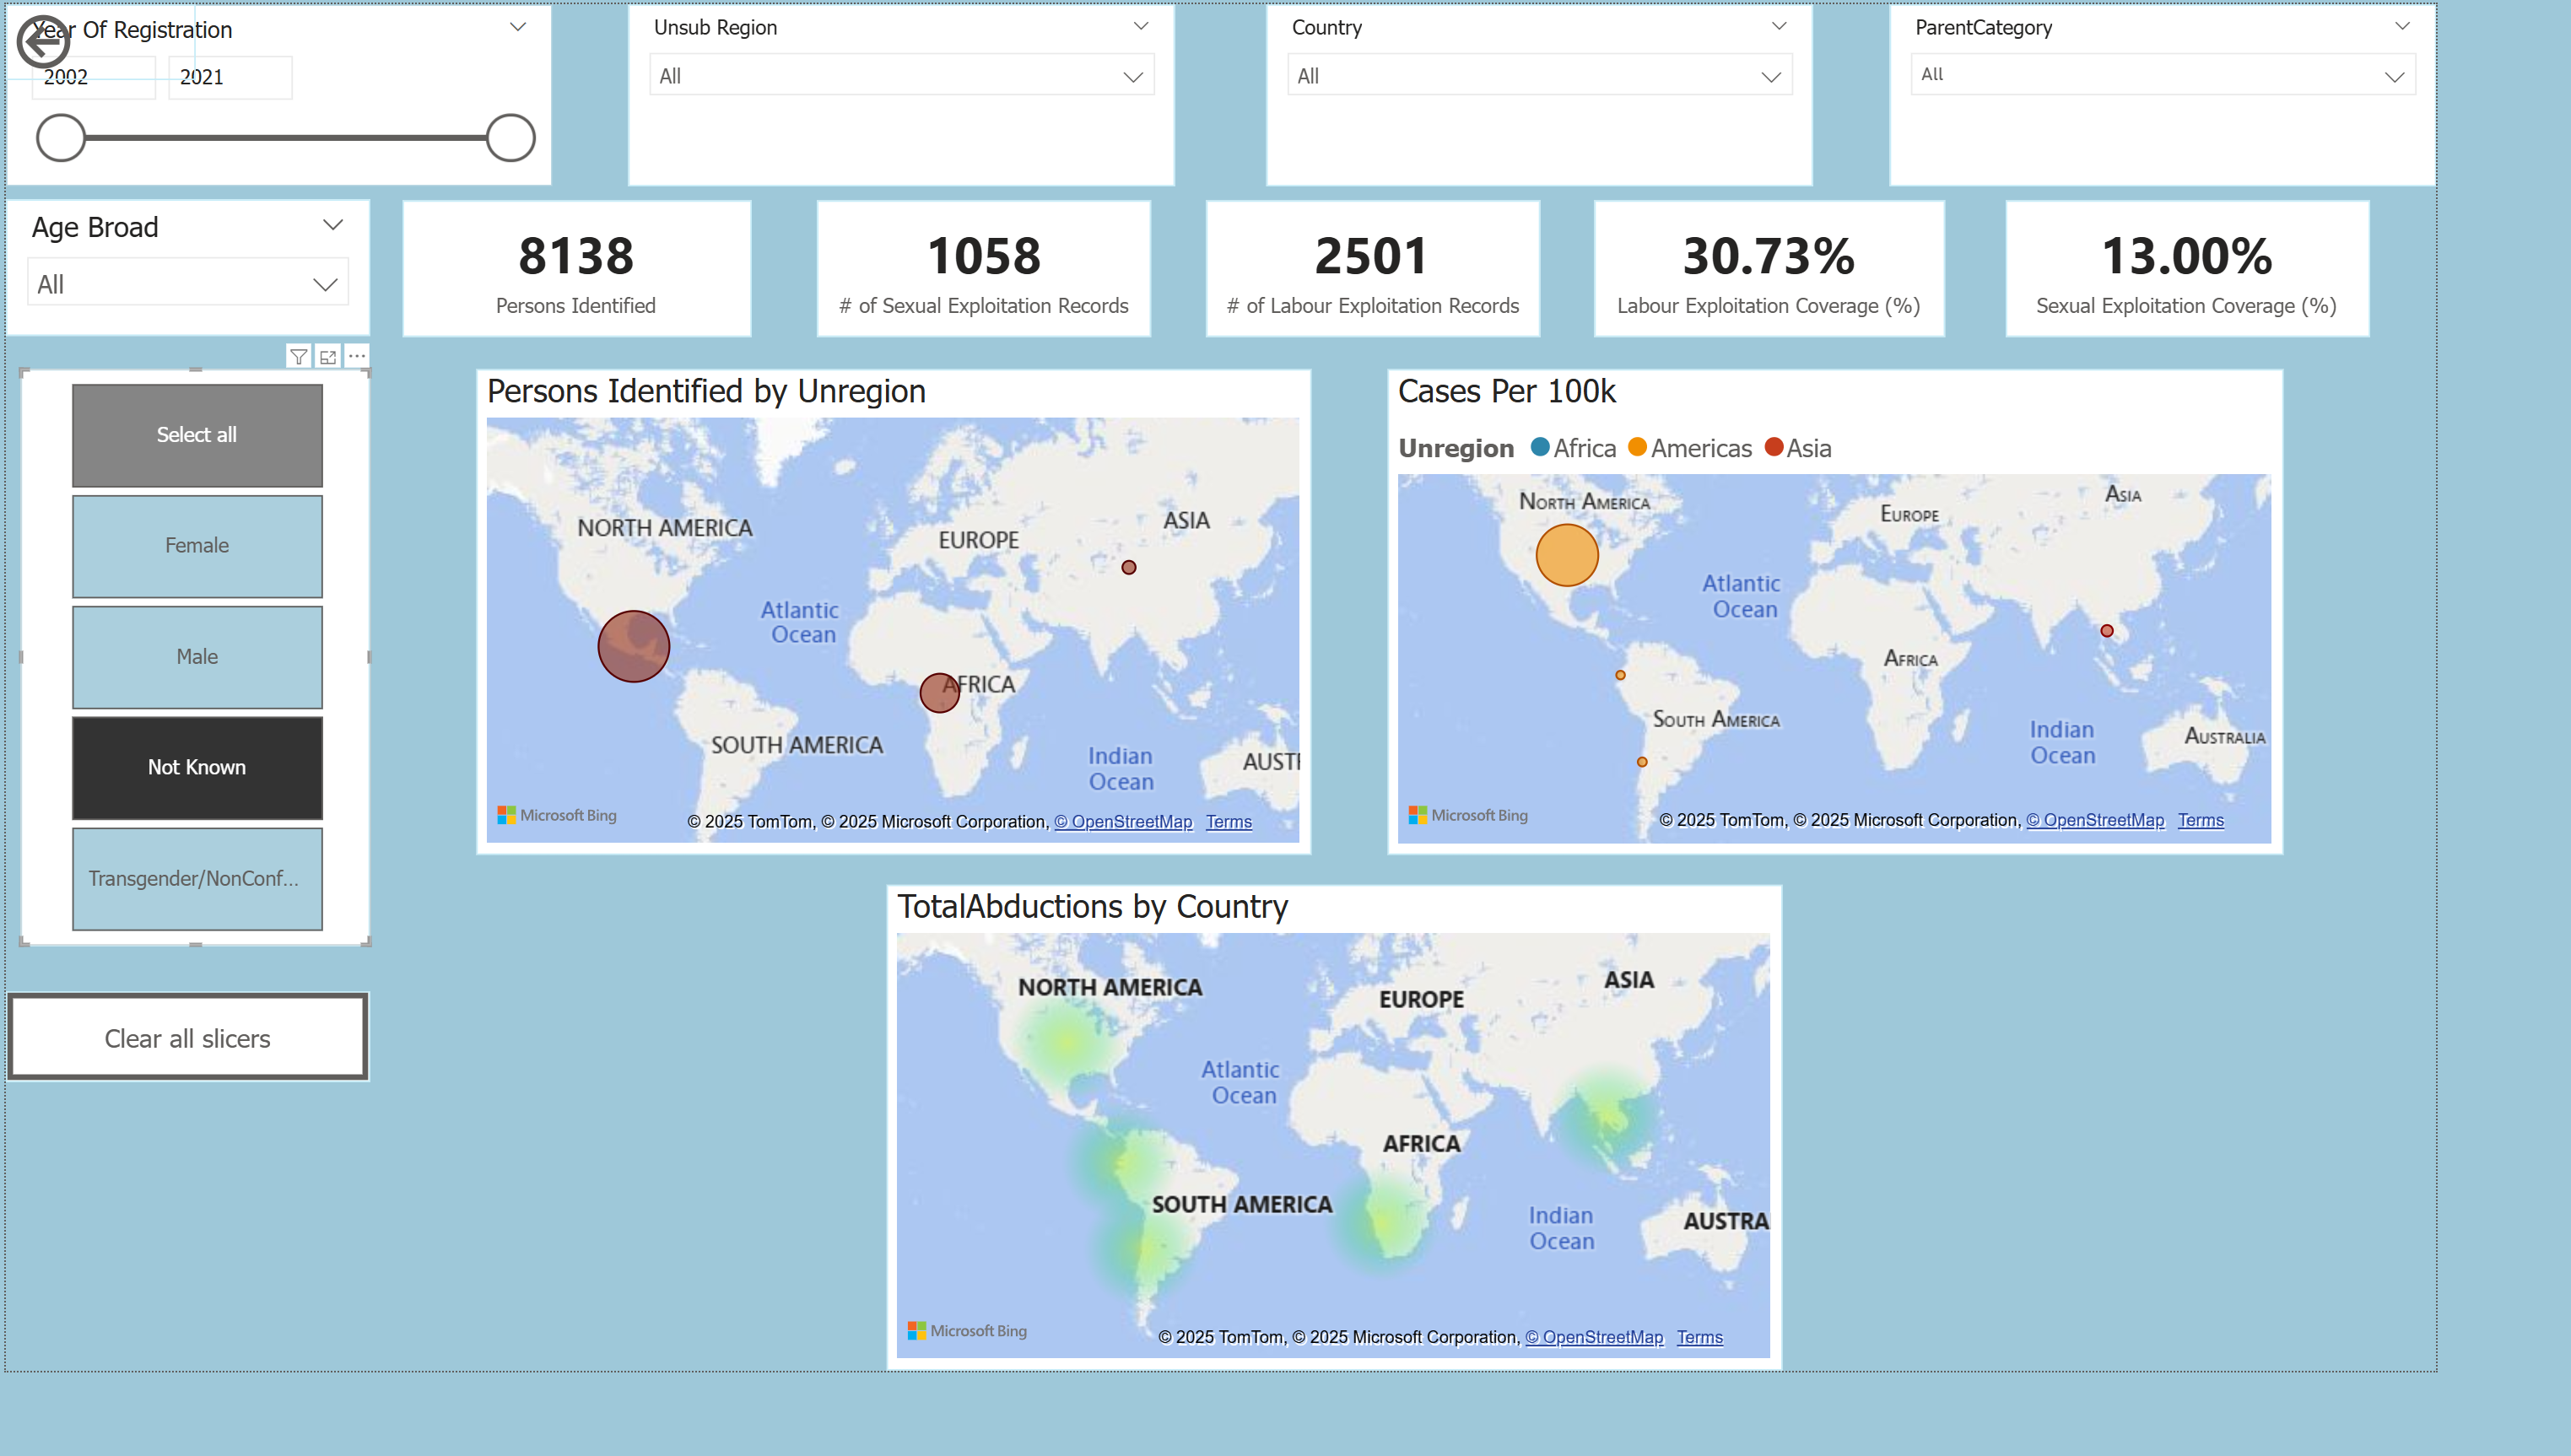

Layout of this report page (visuals, bound fields, positions):
{"tool":"powerbi","page":{"name":"Maps","canvas":[1280,720],"ordinal":1},"visuals":[{"type":"card","fields":{"Values":["CTDC.Persons Identified"]},"box":[209.1,103.1,183.8,72],"z":0},{"type":"card","fields":{"Values":["CTDC.LabourExploitationCount"]},"box":[632.2,103.1,176,72],"z":1000},{"type":"card","fields":{"Values":["CTDC.SexualExploitationCompleteness"]},"box":[1053.4,103.1,191.6,72],"z":2000},{"type":"card","fields":{"Values":["CTDC.LabourExploitationCompleteness"]},"box":[836.5,103.1,184.8,72],"z":3000},{"type":"slicer","fields":{"Values":["CTDC.Year Of Registration"]},"box":[0,0,288,96],"z":4000},{"type":"slicer","fields":{"Values":["CTDC.Gender"]},"box":[8,192,184,304],"z":5000},{"type":"slicer","fields":{"Values":["CTDC.ParentCategory"]},"box":[992,0,288,96],"z":6000},{"type":"slicer","fields":{"Values":["CTDC.Age Broad"]},"box":[0,102.9,191.6,71.9],"z":7000},{"type":"slicer","fields":{"Values":["CTDC.Country"]},"box":[664,0,288,96],"z":8000},{"type":"card","fields":{"Values":["CTDC.SexualExploitationCount"]},"box":[427,103.1,176,72],"z":9000},{"type":"actionButton","box":[0,0,100,40],"z":10000},{"type":"slicer","fields":{"Values":["CTDC.Unsub Region"]},"box":[328,0,288,96],"z":11000},{"type":"map","fields":{"Category":["CTDC.Unregion"],"Size":["CTDC.Persons Identified"]},"box":[248,192,440,256],"z":12000},{"type":"map","fields":{"Category":["CTDC.Country"],"Size":["CTDC.TotalAbductions"]},"box":[464,464,472,256],"z":13000},{"type":"actionButton","box":[0,520,192,48],"z":14000},{"type":"map","fields":{"Category":["CTDC.Iso2"],"Series":["CTDC.Unregion"],"Size":["case_abduction_flags.CasesPer100k"]},"box":[728,192,472,256],"z":14001}]}

Visuals, with their boxes in screenshot pixels (x1, y1, x2, y2):
card - CTDC.Persons Identified: {"left": 393, "top": 197, "right": 744, "bottom": 334}
card - CTDC.LabourExploitationCount: {"left": 1202, "top": 197, "right": 1537, "bottom": 334}
card - CTDC.SexualExploitationCompleteness: {"left": 2006, "top": 197, "right": 2372, "bottom": 334}
card - CTDC.LabourExploitationCompleteness: {"left": 1591, "top": 197, "right": 1945, "bottom": 334}
slicer - CTDC.Year Of Registration: {"left": 0, "top": 0, "right": 543, "bottom": 183}
slicer - CTDC.Gender: {"left": 8, "top": 367, "right": 360, "bottom": 947}
slicer - CTDC.ParentCategory: {"left": 1888, "top": 0, "right": 2439, "bottom": 183}
slicer - CTDC.Age Broad: {"left": 0, "top": 197, "right": 359, "bottom": 334}
slicer - CTDC.Country: {"left": 1262, "top": 0, "right": 1812, "bottom": 183}
card - CTDC.SexualExploitationCount: {"left": 809, "top": 197, "right": 1145, "bottom": 334}
actionButton: {"left": 0, "top": 0, "right": 185, "bottom": 77}
slicer - CTDC.Unsub Region: {"left": 620, "top": 0, "right": 1170, "bottom": 183}
map - CTDC.Unregion x CTDC.Persons Identified: {"left": 467, "top": 367, "right": 1308, "bottom": 855}
map - CTDC.Country x CTDC.TotalAbductions: {"left": 880, "top": 887, "right": 1781, "bottom": 1375}
actionButton: {"left": 0, "top": 993, "right": 360, "bottom": 1085}
map - CTDC.Iso2 x CTDC.Unregion: {"left": 1385, "top": 367, "right": 2286, "bottom": 855}
